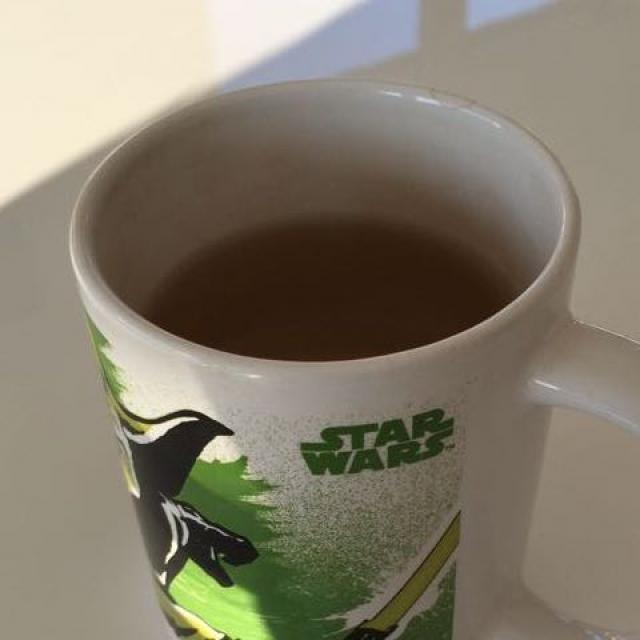drink: (142, 213, 510, 358)
